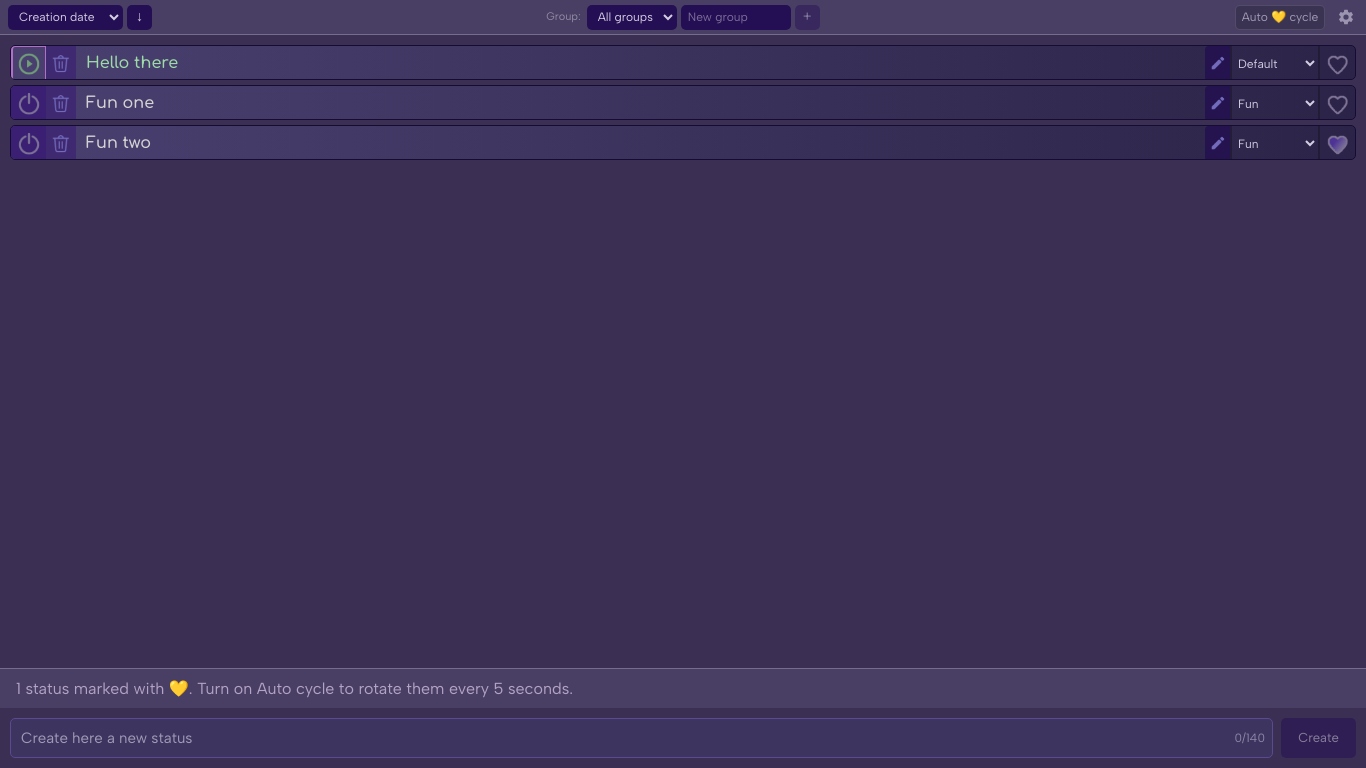
Test case: StatusPage › binds the Auto cycle switch and updates the message bar
Expected: the message shows "1 status marked with 💛", x1=16 y1=679 x2=573 y2=698
Click the switch named "Auto cycle" at (1280, 17), box x1=1235 y1=4 x2=1325 y2=30
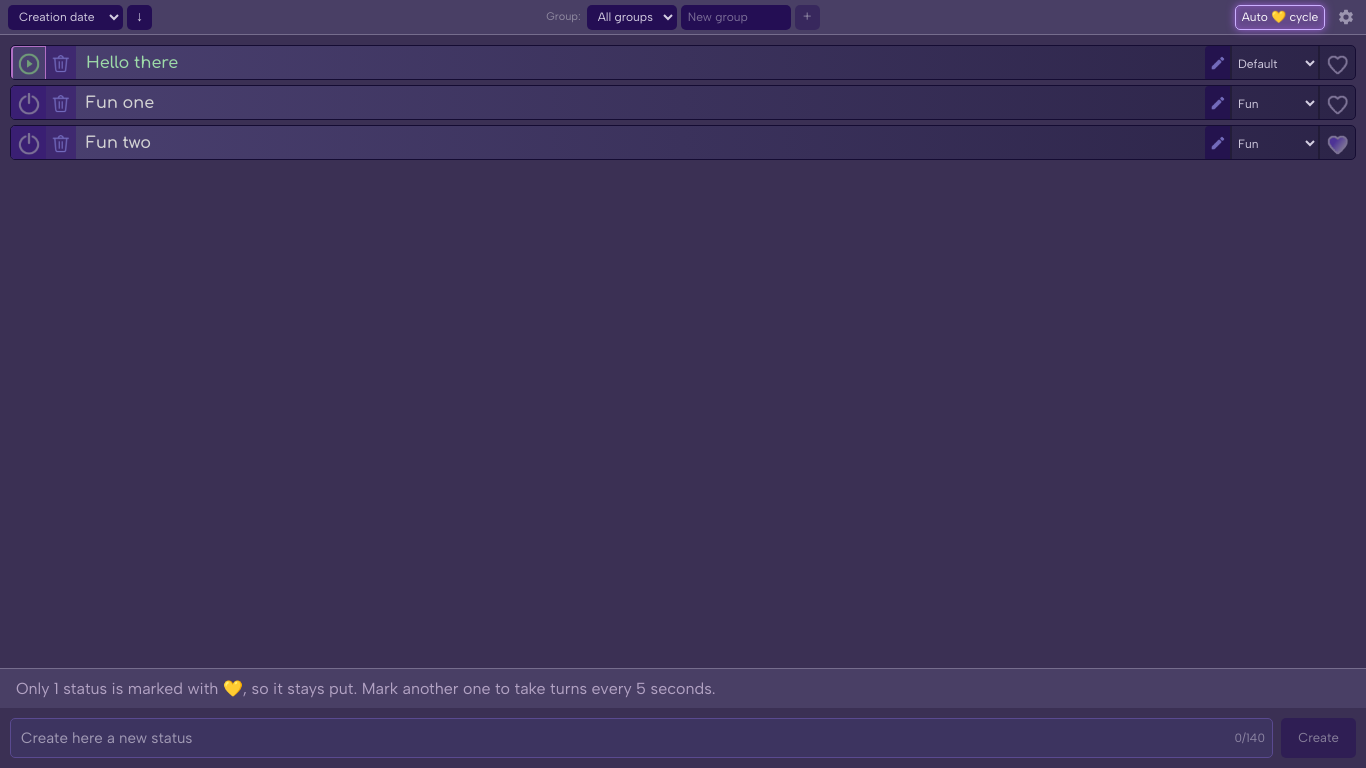
Result: the switch named "Auto cycle" is checked at x1=1235 y1=4 x2=1325 y2=30
Click the button named "Add Hello there to cycle" at (1338, 64), box x1=1320 y1=46 x2=1355 y2=81
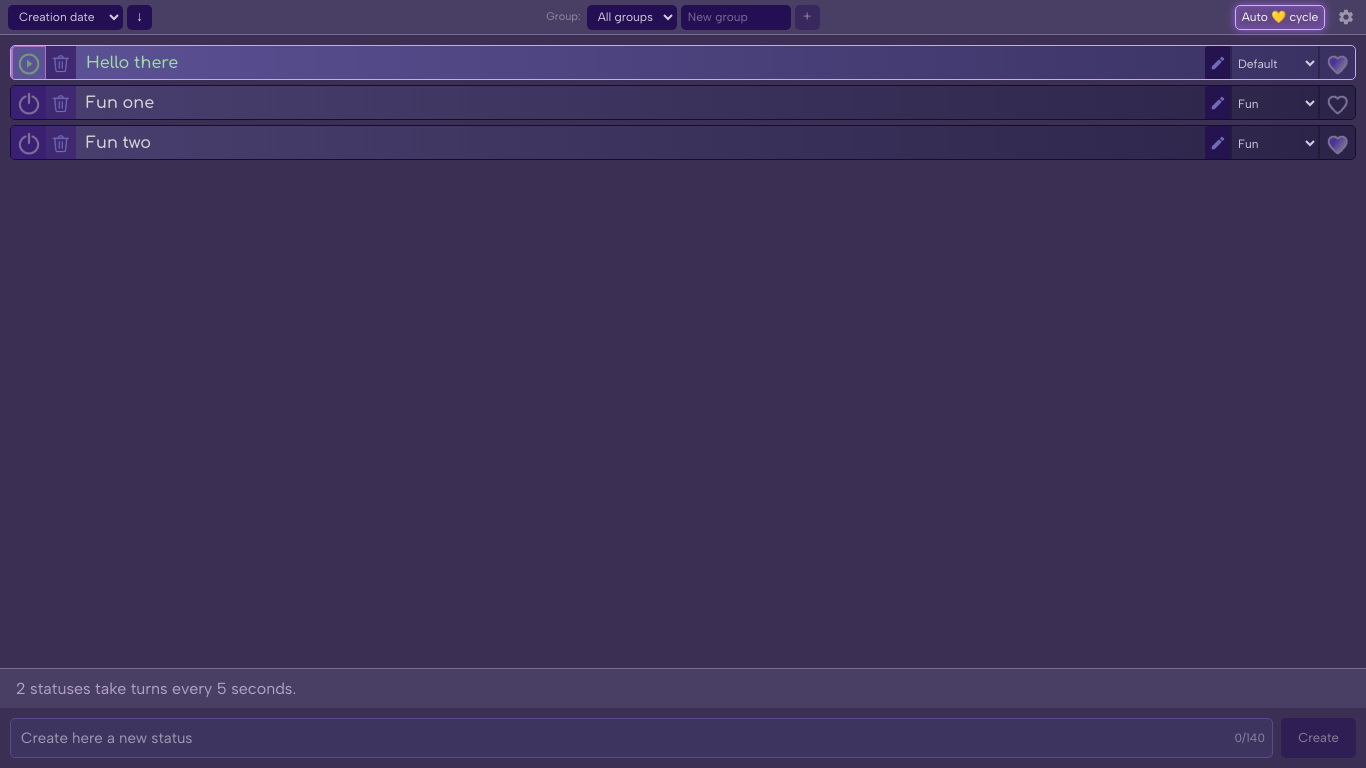
Result: the message reads "2 statuses take turns every 5 seconds." at x1=16 y1=679 x2=296 y2=698
